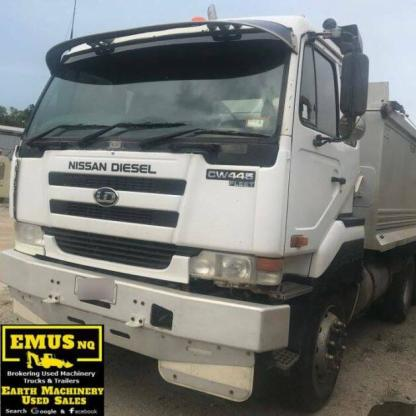dump_truck: (12, 21, 415, 398)
